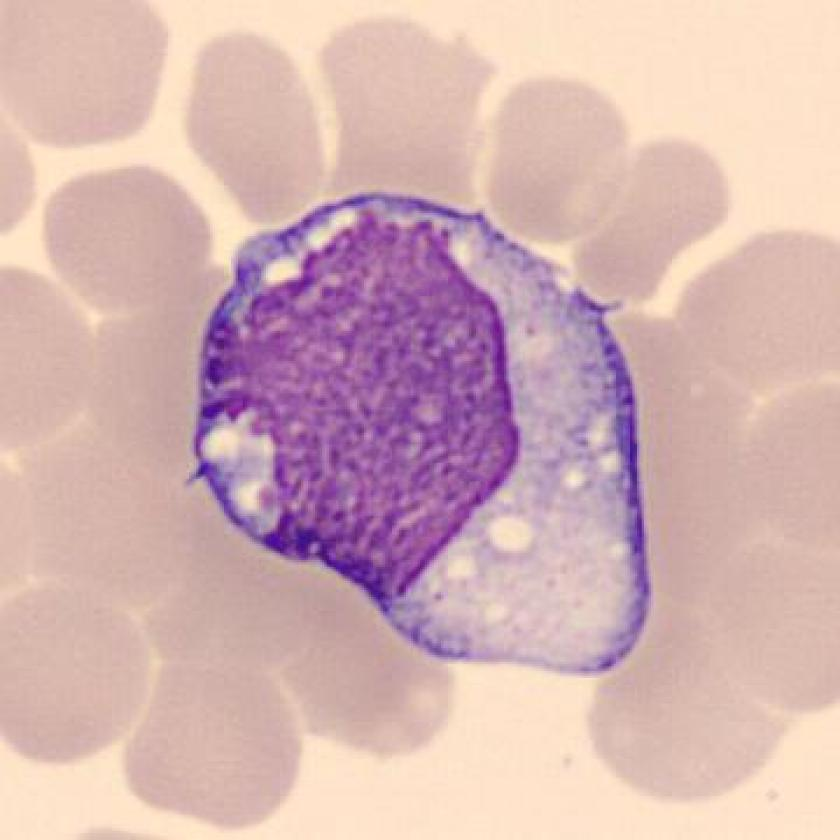monocyte: (178, 186, 666, 684)
